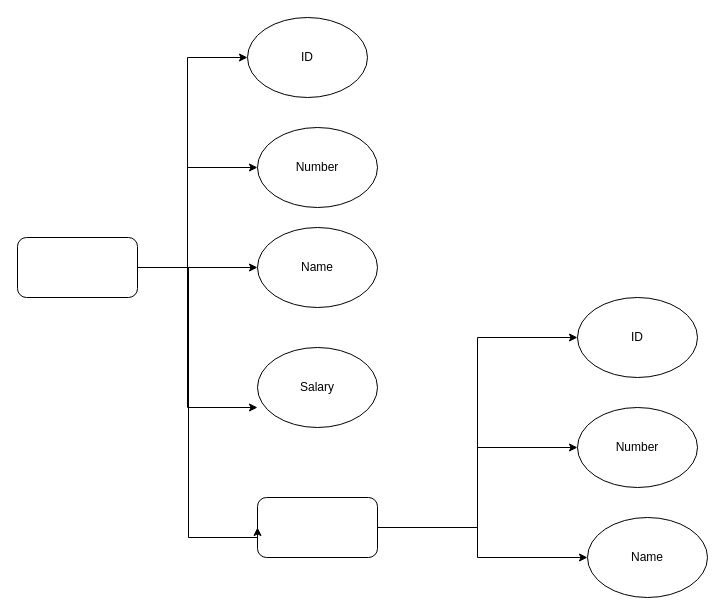
Some shapes in this 725 by 615 pixel diagram are drawn without their labels. The centre of each missing label's shape, as x and y in pixels:
"Departmment" goes at [317,527].
"Employee" goes at [77,267].
